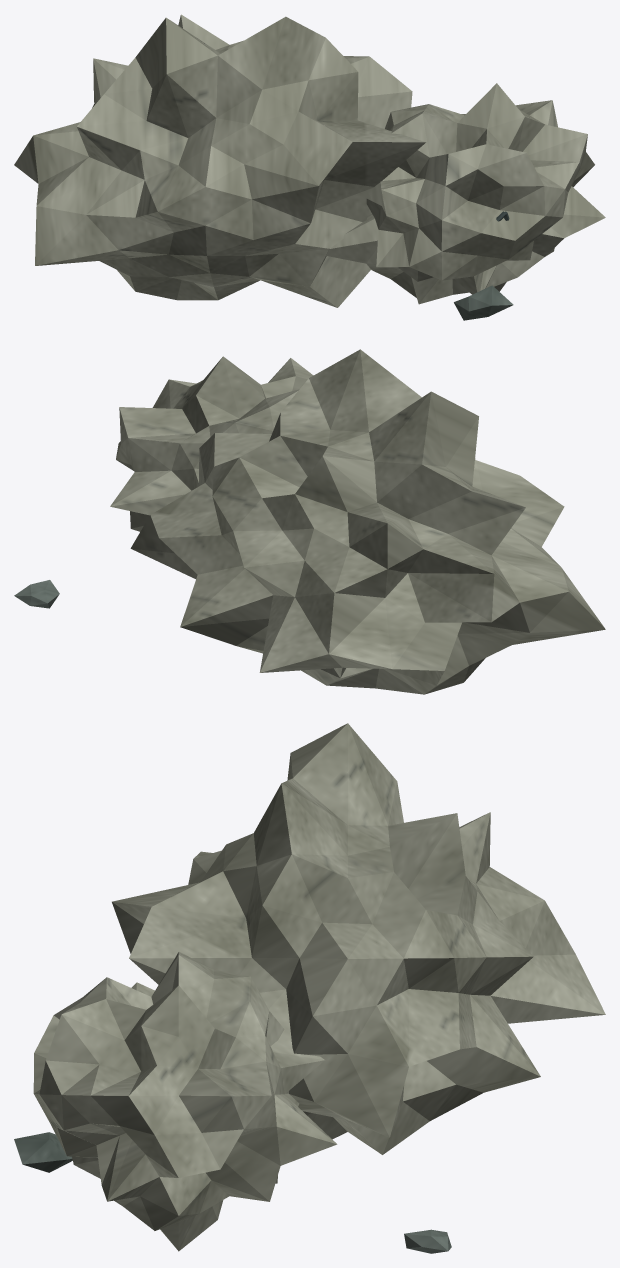
The model's file is 0011_boulder_11.glb.
3 views of the same model, one above another, from view 1: azimuth 30°, elevation 25°; view 2: azimuth 150°, elevation 25°; view 3: azimuth 270°, elevation 25° (orthographic). The views are drawn at different scales.
Visible parts, largest first — view 1: stone_light, stone; view 2: stone_light, stone; view 3: stone_light, stone.
Boxes of the visible parts, x1,y1,x2,y2 form: stone_light: (14,14,605,307); stone: (454,285,513,320); stone_light: (110,349,605,694); stone: (14,580,59,608); stone_light: (33,723,605,1251); stone: (14,1132,451,1253).
Size of the model in its own units: 3.05 by 1.67 by 2.45.
3 materials, 3 textured.
